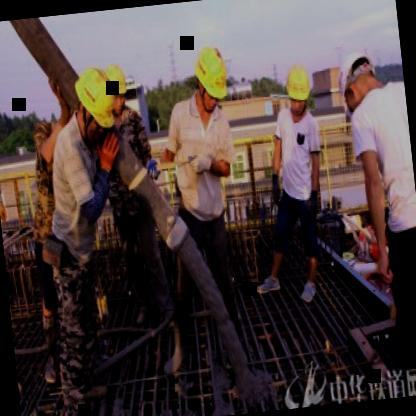helmet: (68, 62, 132, 137), (186, 34, 235, 121), (332, 47, 388, 113), (91, 60, 135, 120), (280, 57, 317, 124)
